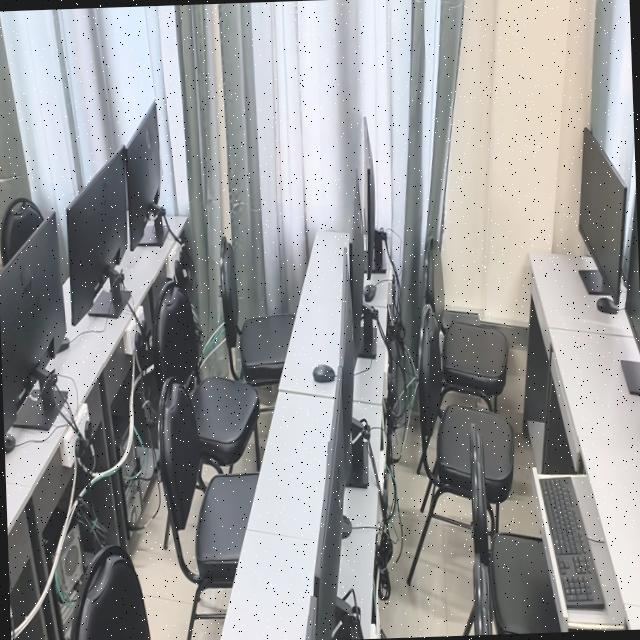Chair: (408, 305, 513, 578), (158, 380, 257, 640), (154, 279, 260, 473), (470, 421, 562, 634), (219, 236, 294, 387), (69, 544, 150, 640), (445, 318, 510, 412), (0, 197, 43, 264), (425, 237, 445, 320), (473, 554, 492, 635)
Cpu: (44, 497, 86, 640), (112, 406, 142, 536)
Keyboard: (539, 476, 603, 610)
Monitor: (4, 213, 67, 429), (314, 365, 356, 640), (66, 146, 130, 324), (578, 127, 627, 303), (341, 247, 368, 488), (126, 102, 166, 250), (350, 178, 375, 358), (362, 116, 385, 277), (0, 269, 16, 435), (624, 195, 640, 356), (621, 361, 640, 394), (304, 596, 316, 640)
Mouse: (312, 363, 334, 382), (596, 296, 618, 314), (341, 512, 352, 538), (363, 283, 376, 302)
